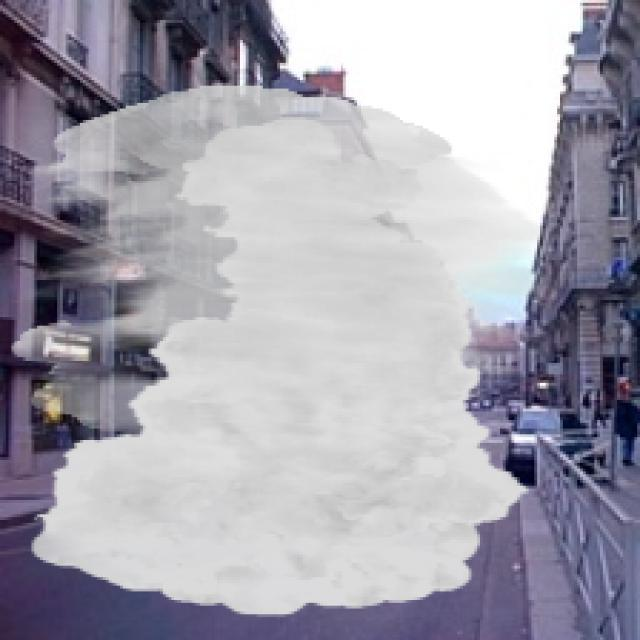Smoke: (11, 85, 552, 618)
